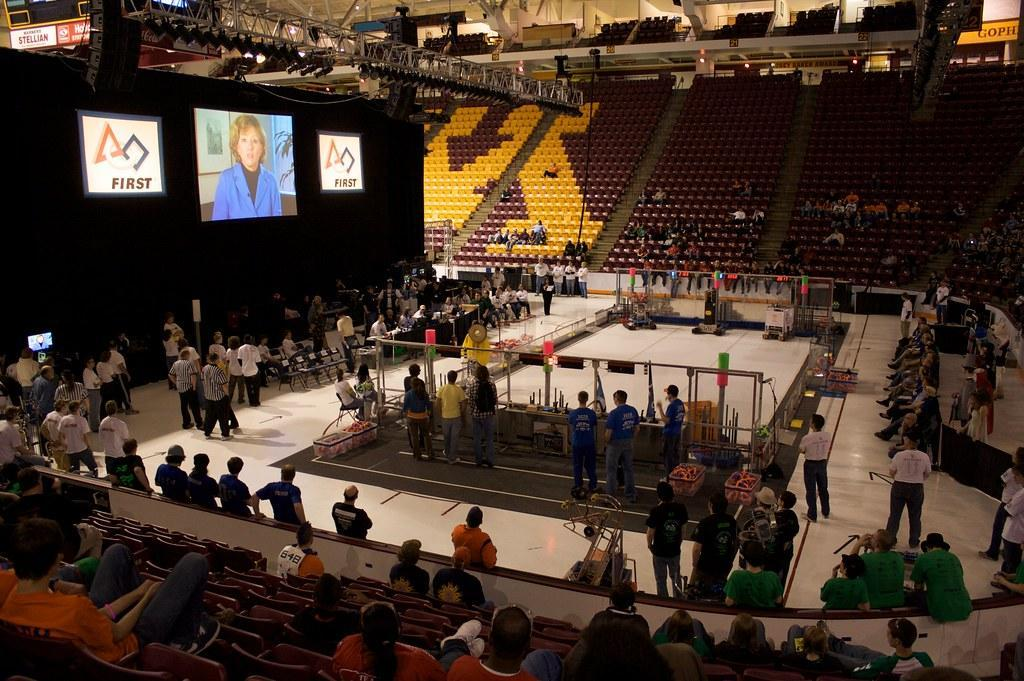robot: (616, 269, 666, 334), (690, 286, 733, 347), (759, 296, 796, 347)
